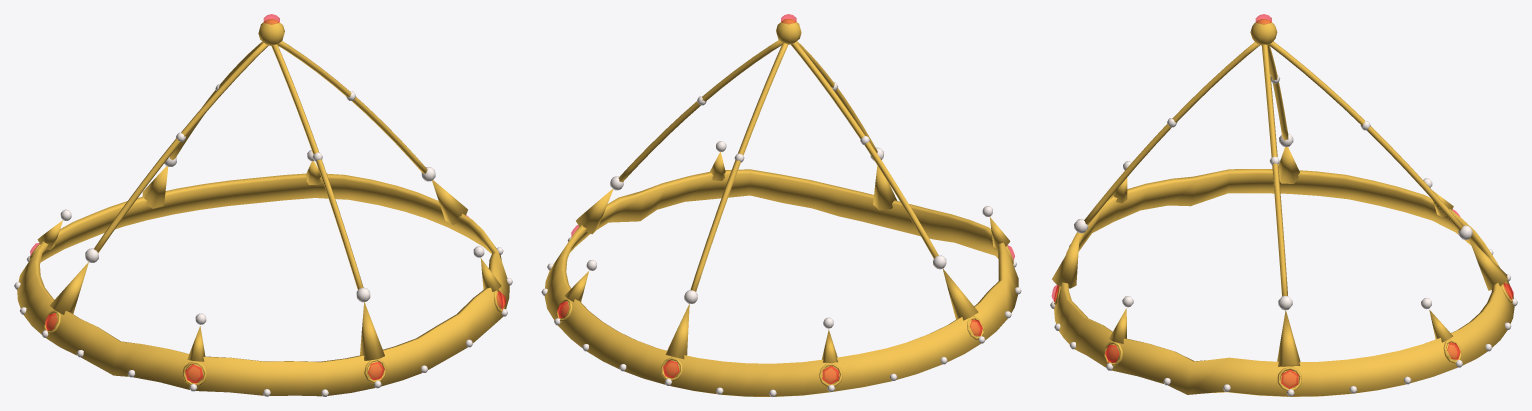
File: queen_crown.glb
The picture shows the model from 3 angles, left to right: view 1: azimuth 30°, elevation 25°; view 2: azimuth 150°, elevation 25°; view 3: azimuth 270°, elevation 25°; orthographic projection. The views are drawn at different scales.
Visible parts, largest first — view 1: queen_crown; view 2: queen_crown; view 3: queen_crown.
Boxes of the visible parts, box(x1,y1,x2,y2) form: queen_crown: box(14, 14, 512, 396); queen_crown: box(541, 14, 1021, 396); queen_crown: box(1050, 14, 1517, 396).
Bounding box in the file's own units: 0.2386 × 0.156 × 0.2255.
